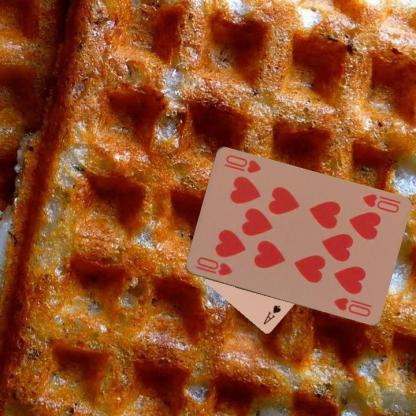10h: (358, 192, 401, 214), (192, 254, 233, 277)
As: (261, 302, 282, 326)
